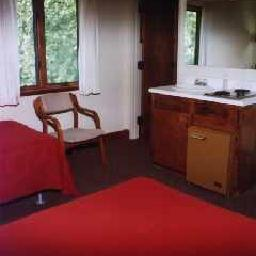Cama: (4, 174, 255, 252), (2, 121, 68, 203)
Lavaplatos: (170, 76, 214, 95)
